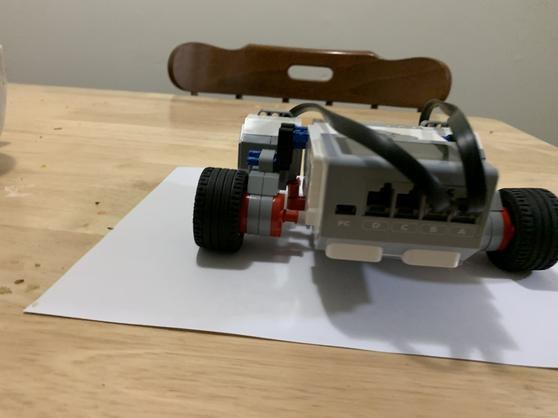robot: (175, 102, 558, 289)
